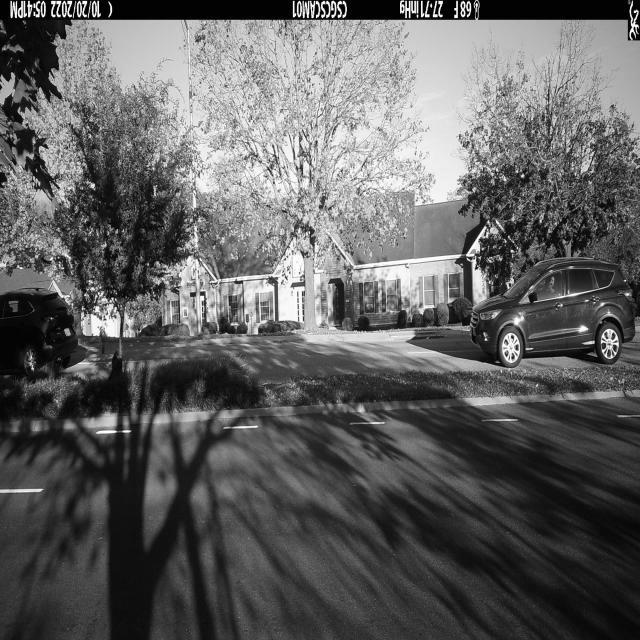SUV: (469, 260, 637, 369), (0, 289, 78, 379)
